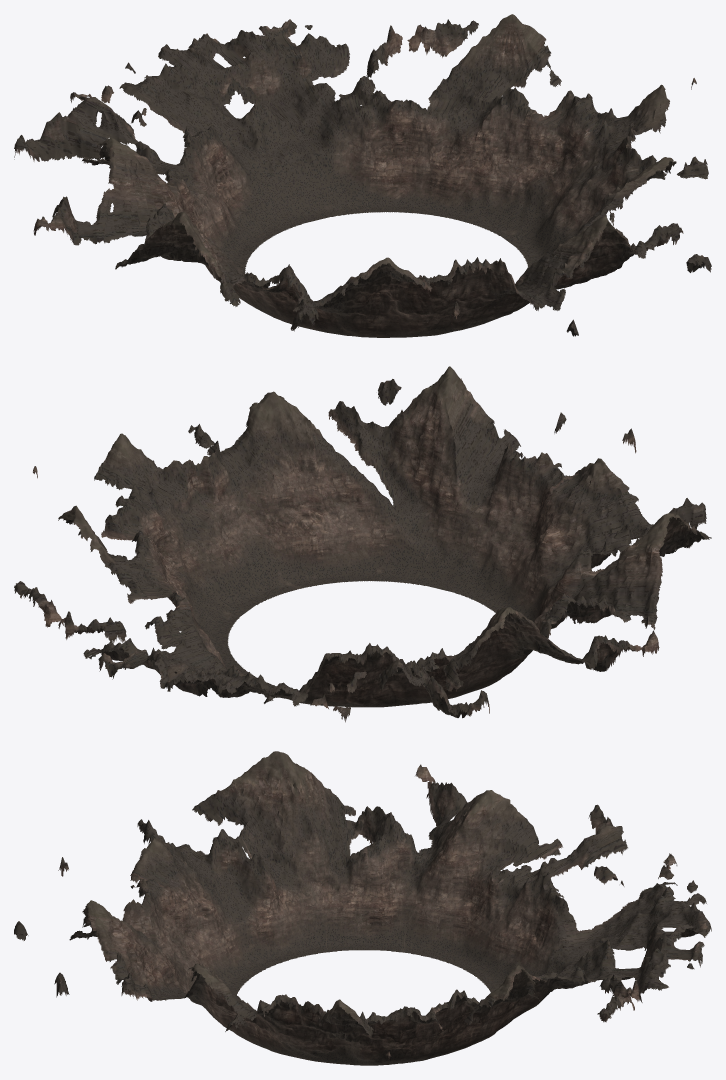
File: backdrop_mountain_ring_v5_dead_mid.glb
The picture shows the model from 3 angles, top to bottom: view 1: azimuth 30°, elevation 25°; view 2: azimuth 150°, elevation 25°; view 3: azimuth 270°, elevation 25°; orthographic projection. The views are drawn at different scales.
Parts seen in each view (by area): view 1: backdrop_v5_mid; view 2: backdrop_v5_mid; view 3: backdrop_v5_mid.
Part boxes in pixels (x1,y1,x2,y2): backdrop_v5_mid: (14, 14, 711, 337); backdrop_v5_mid: (14, 366, 711, 722); backdrop_v5_mid: (14, 751, 711, 1065).
Size of the model in its own units: 1464 by 336 by 1502.
Materials: 8 (8 with a texture image).
